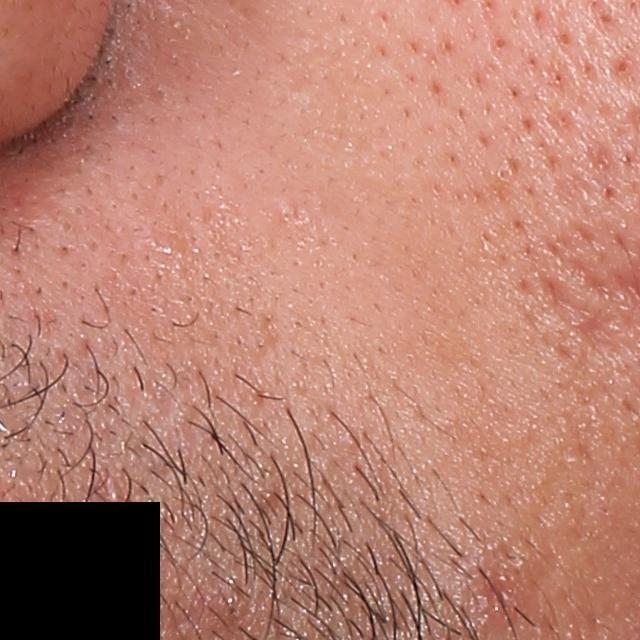atrophic_scar: (540, 272, 616, 344)
